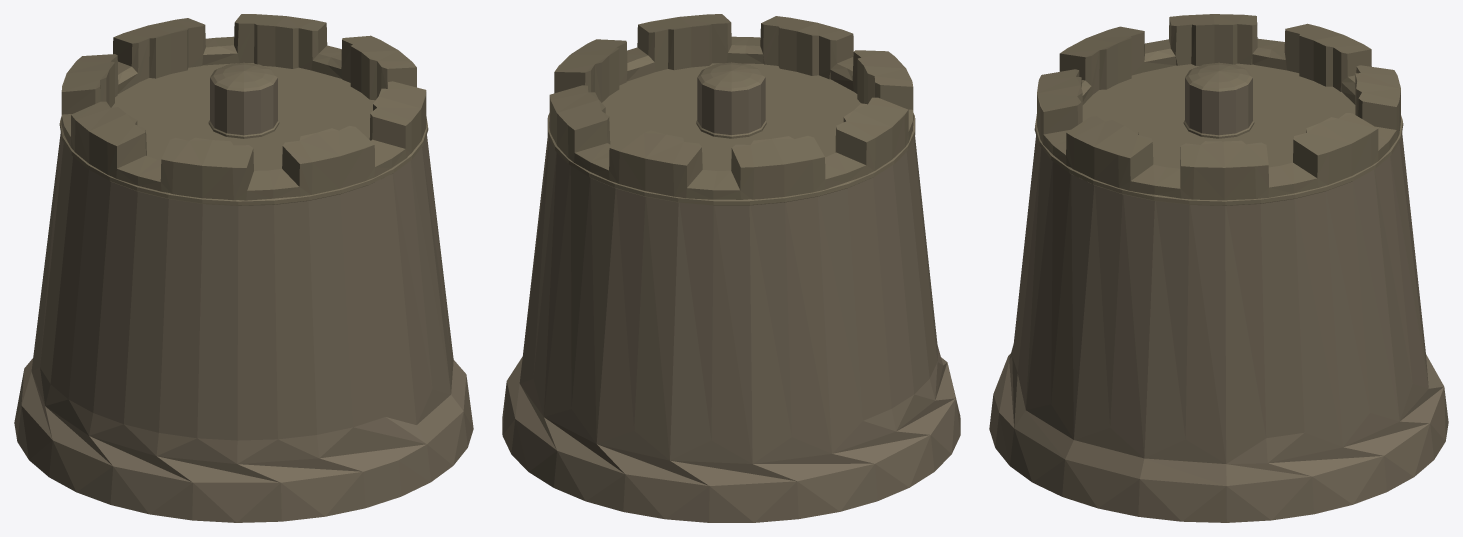
File: fort-tower-lod1.glb
3 views of the same model, side by side, from view 1: azimuth 30°, elevation 25°; view 2: azimuth 150°, elevation 25°; view 3: azimuth 270°, elevation 25° (orthographic).
Bounding box in the file's own units: 15.84 × 13.5 × 15.84.
